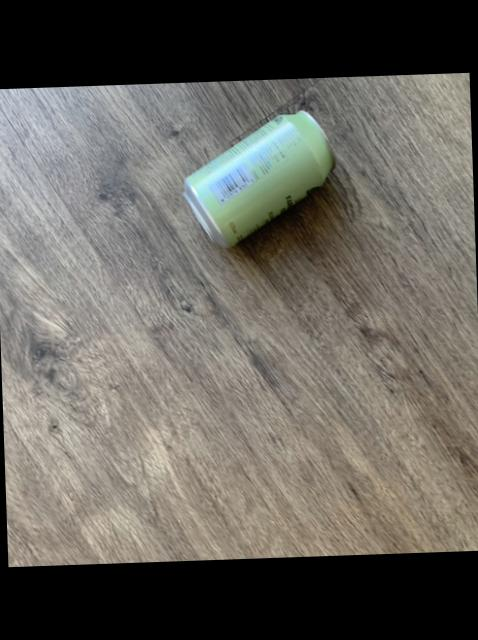metal: (185, 110, 334, 246)
